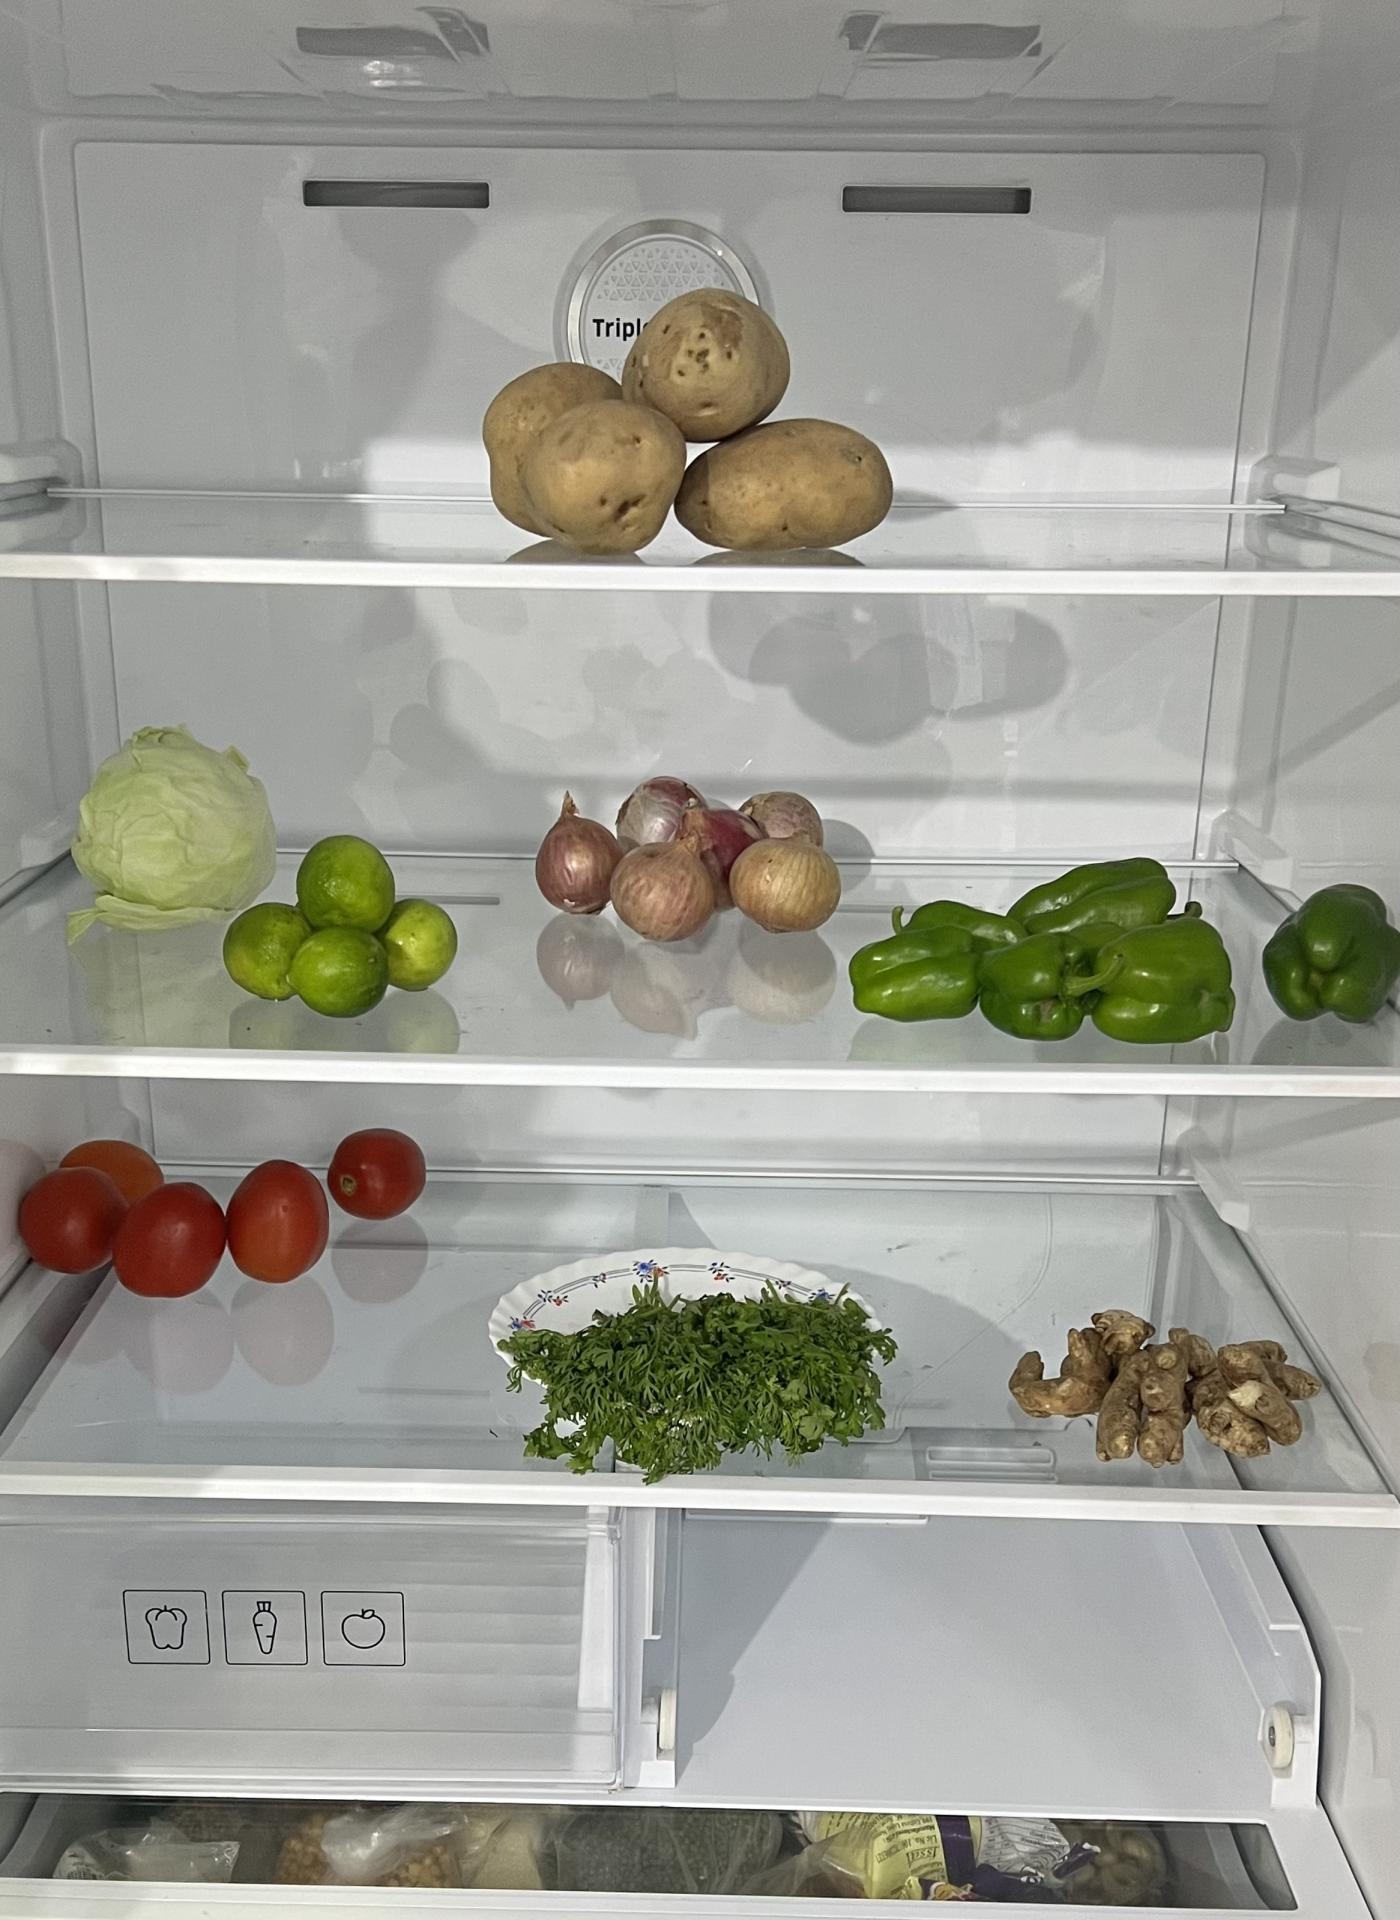cabbage: (75, 721, 268, 921)
capsicum: (848, 848, 1393, 1036)
coriander: (504, 1269, 896, 1468)
ginger: (1014, 1306, 1317, 1465)
lemon: (224, 830, 459, 1017)
onion: (540, 768, 838, 944)
potato: (486, 286, 887, 547)
tomato: (24, 1117, 425, 1295)
